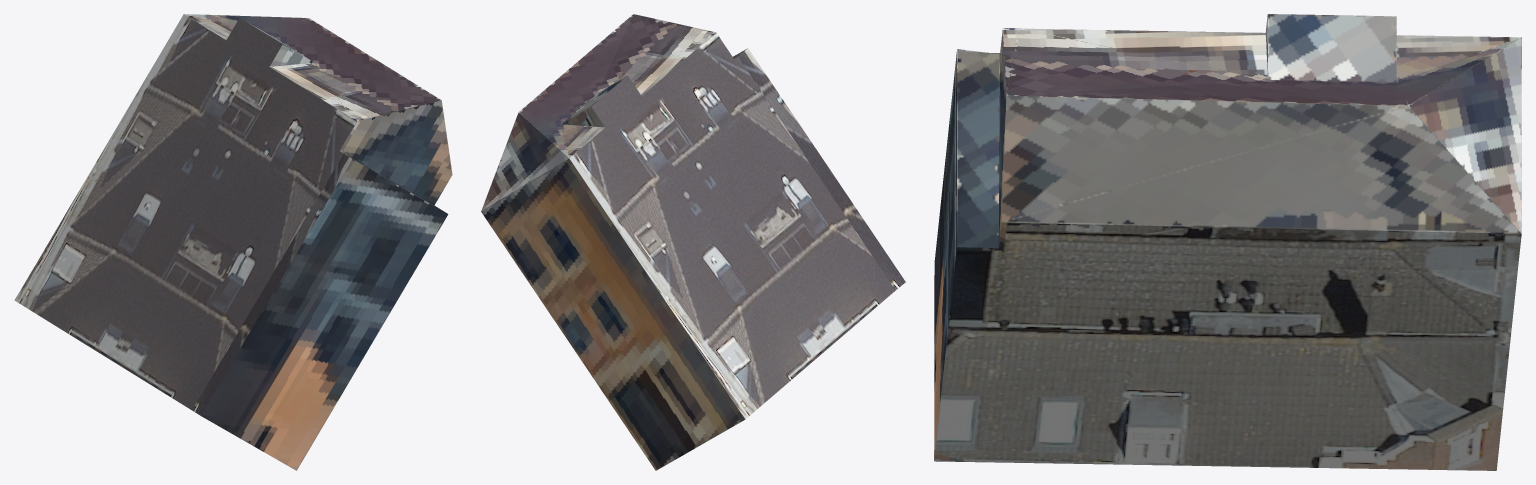
The picture shows the model from 3 angles, left to right: view 1: azimuth 30°, elevation 25°; view 2: azimuth 150°, elevation 25°; view 3: azimuth 270°, elevation 25°; orthographic projection. The views are drawn at different scales.
Visible parts, largest first — view 1: BAG_0599100000688752 (×3); view 2: BAG_0599100000688752 (×4); view 3: BAG_0599100000688752 (×4).
Boxes of the visible parts, <box> form: BAG_0599100000688752 (×3): <box>14,14,452,470</box>; BAG_0599100000688752 (×4): <box>481,14,905,470</box>; BAG_0599100000688752 (×4): <box>934,14,1521,470</box>.
Size of the model in its own units: 11.36 by 13.04 by 12.97.
Materials: 1 (1 with a texture image).
